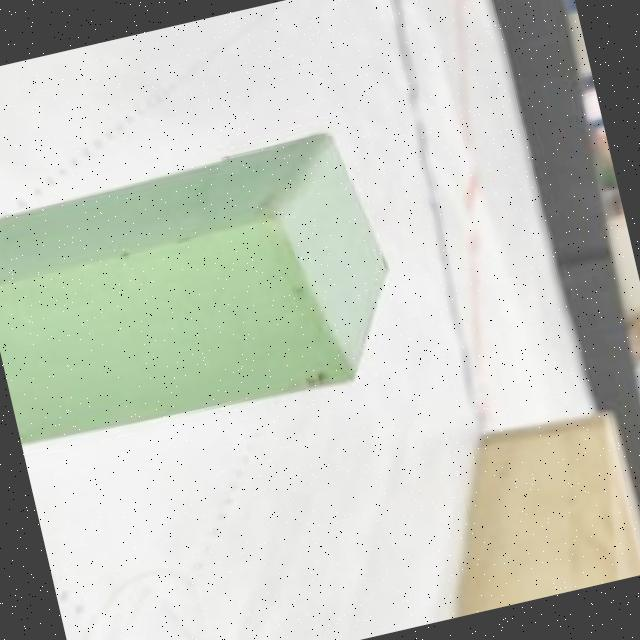greenbox: (0, 115, 419, 464)
